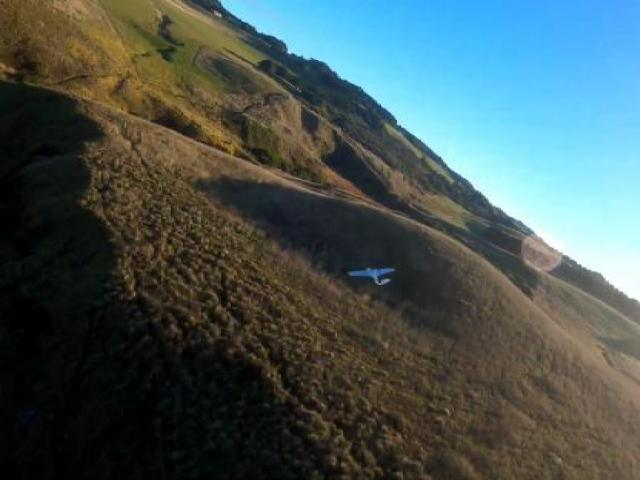uav: (349, 263, 396, 286)
